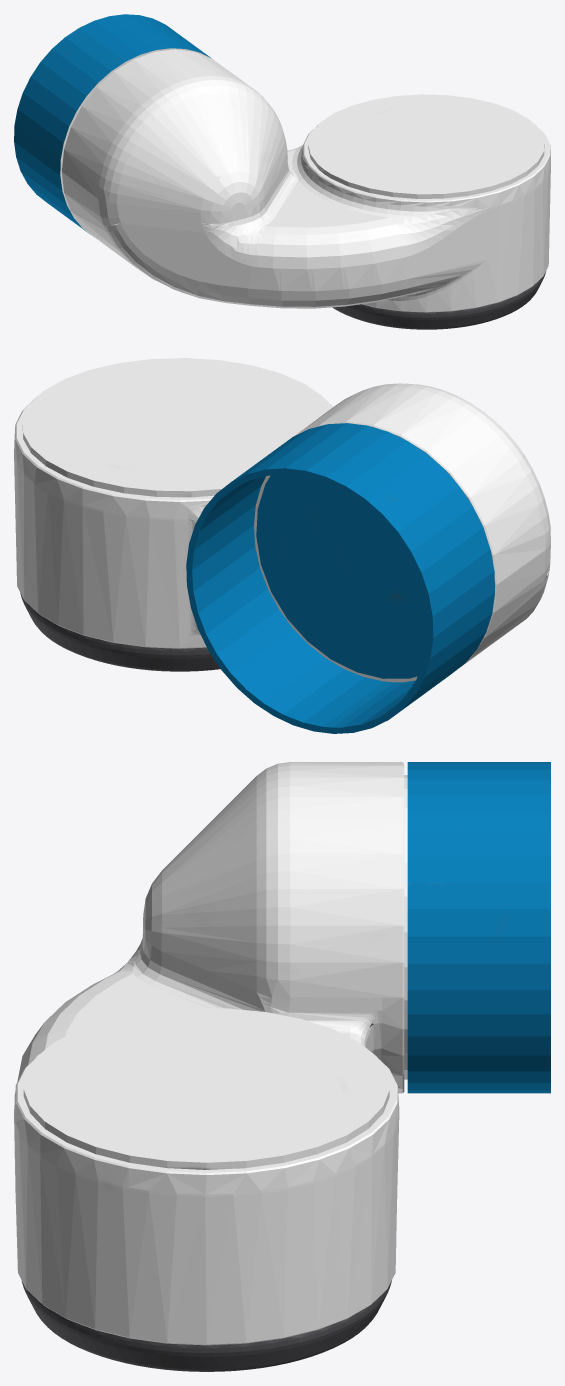
The model's file is shoulder_pan_link.obj.
3 views of the same model, one above another, from view 1: azimuth 30°, elevation 25°; view 2: azimuth 150°, elevation 25°; view 3: azimuth 270°, elevation 25° (orthographic). The views are drawn at different scales.
Visible parts, largest first — view 1: obj1; view 2: obj1; view 3: obj1.
Part boxes in pixels (left/top/right/bottom): obj1: left=14, top=14, right=550, bottom=329; obj1: left=14, top=358, right=550, bottom=733; obj1: left=14, top=762, right=550, bottom=1371.
Size of the model in its own units: 0.2295 by 0.1265 by 0.1685.
